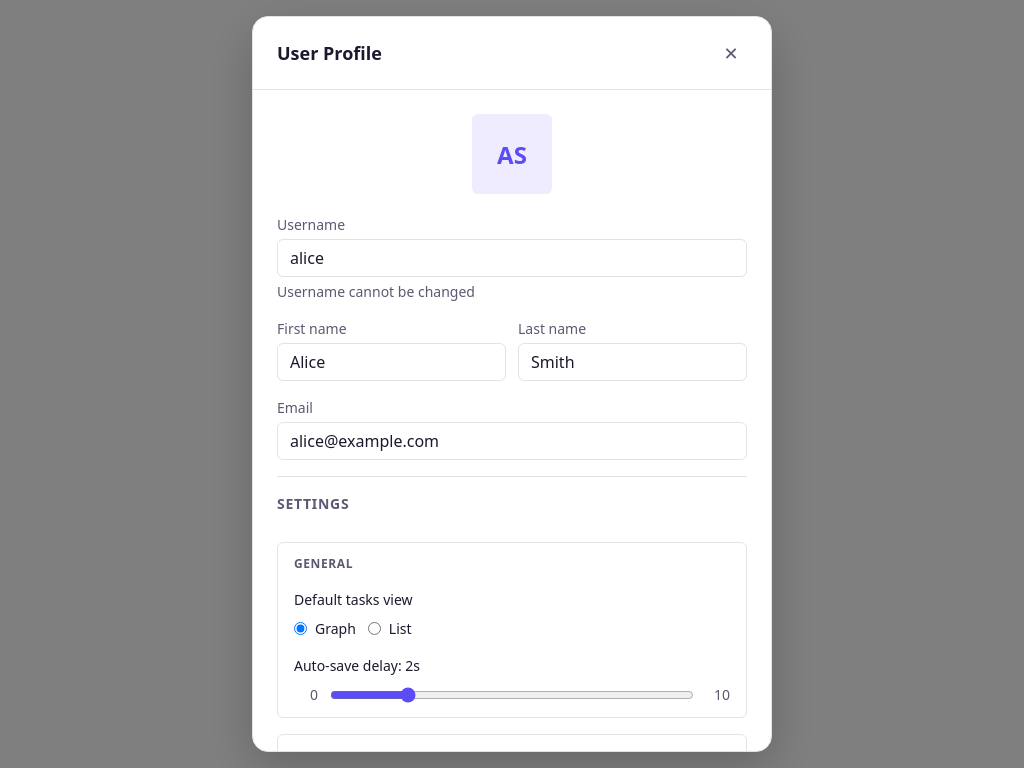
it: UserProfileModal › shows validation error when first name is cleared
Clear the field labelled "First name": x=392, y=362 [277,343,506,381]
(page scrolled)
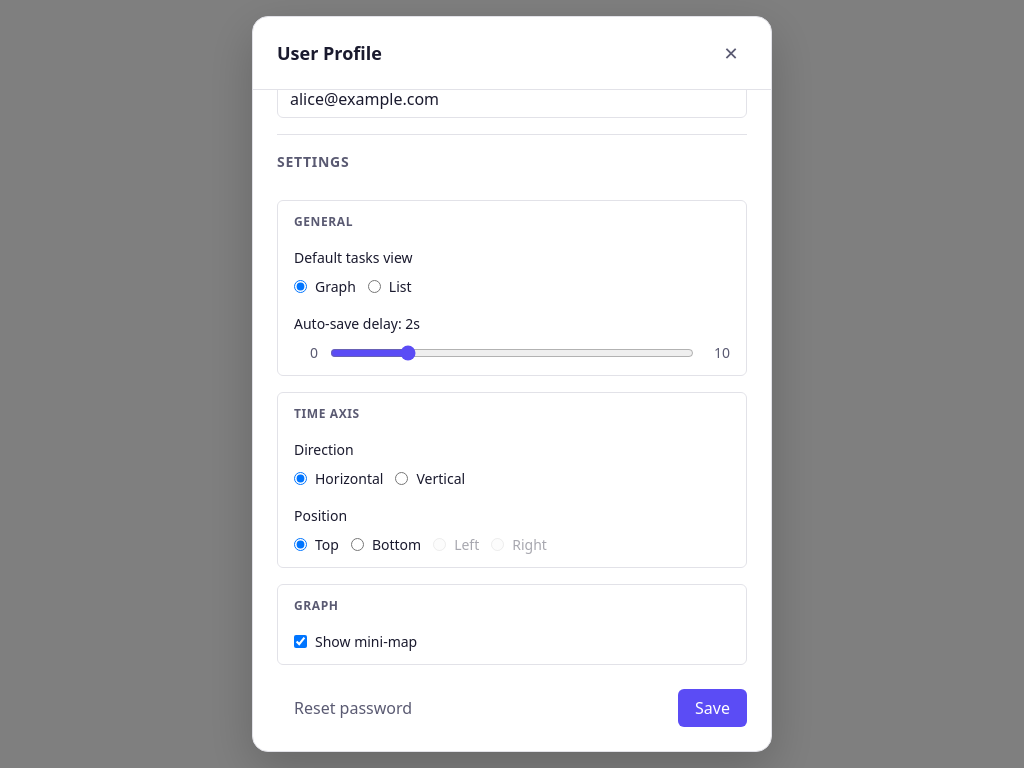
Click the button "Save": x=713, y=708 [678,689,747,727]
(page scrolled)
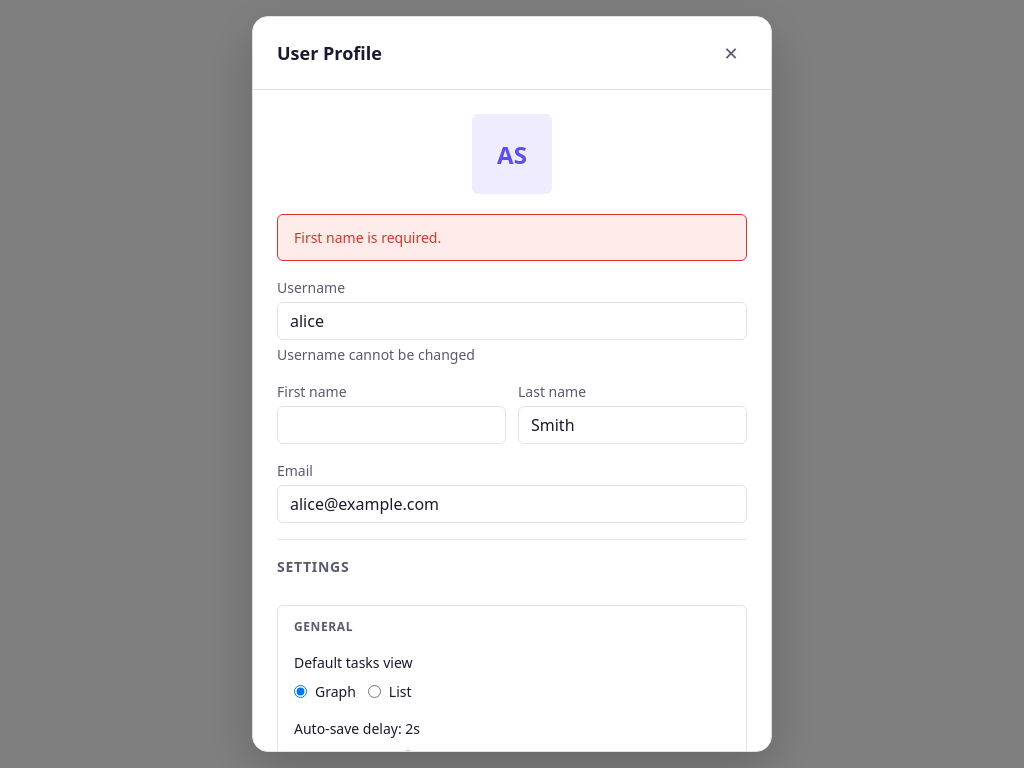
Now the message shows "First name is required", box [294,228,441,247]
